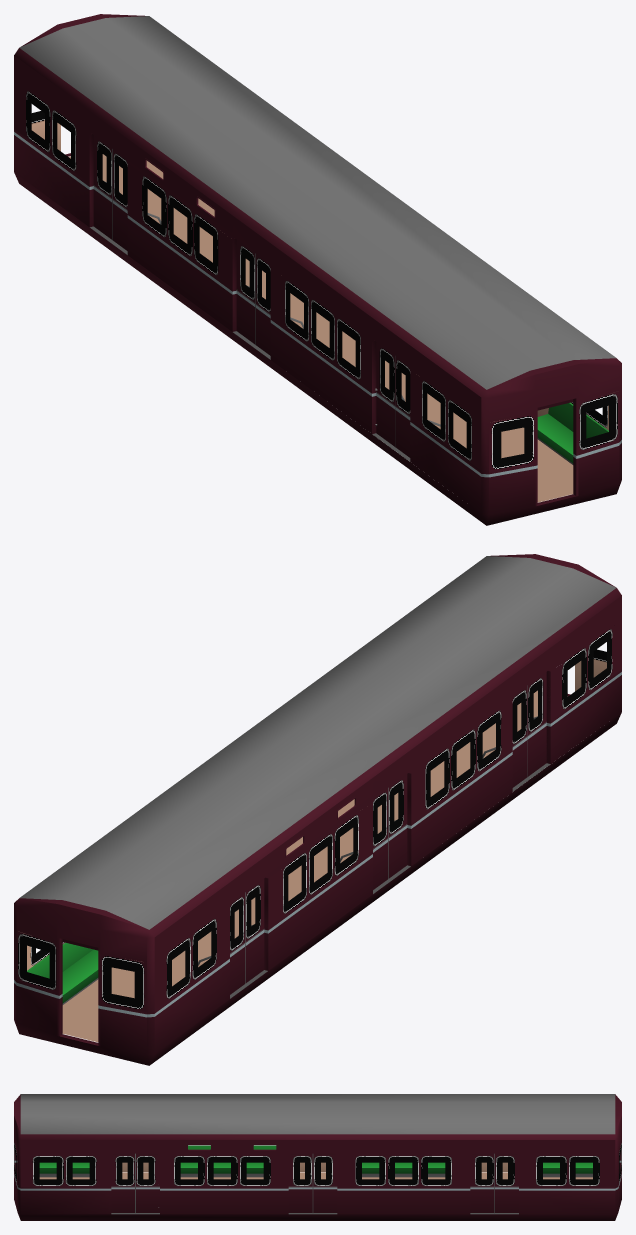
The model's file is HANKYU7001_2.glb.
3 renders of one model, top to bottom at view 1: azimuth 30°, elevation 25°; view 2: azimuth 150°, elevation 25°; view 3: azimuth 270°, elevation 25°, orthographic. The views are drawn at different scales.
Parts seen in each view (by area): view 1: body2; view 2: body2; view 3: body2.
Part boxes in pixels (<box>): body2: <box>14,14,621,525</box>; body2: <box>14,554,621,1065</box>; body2: <box>14,1094,621,1220</box>.
Size of the model in its own units: 6.55 by 6.42 by 38.46.
10 materials, 9 textured.
